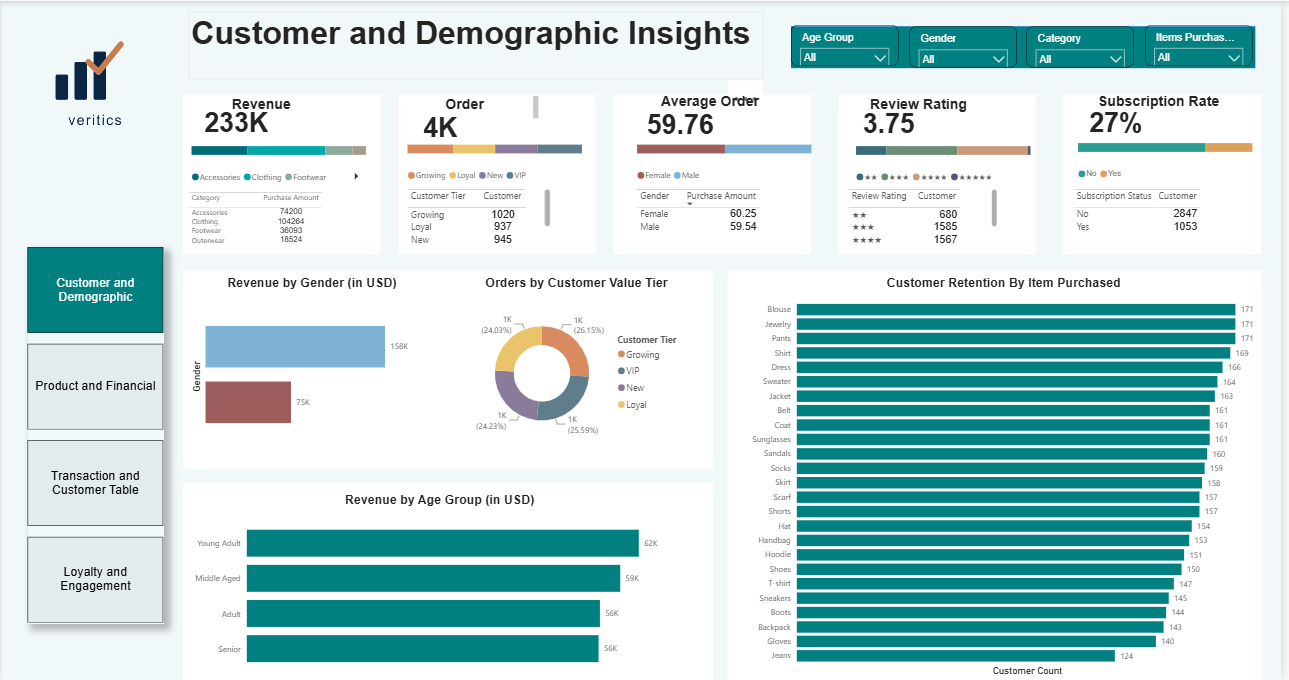

Layout of this report page (visuals, bound fields, positions):
{"tool":"powerbi","page":{"name":"Customer and Demographic","canvas":[1920,1020],"ordinal":0},"visuals":[{"type":"cardVisual","fields":{"Data":["DAX.Total Revenue"]},"box":[274.8,134,168.1,95.4],"z":0},{"type":"cardVisual","fields":{"Data":["DAX.Total Orders"]},"box":[604.2,136.3,163.5,106.8],"z":1000},{"type":"cardVisual","fields":{"Data":["DAX.Avg Order Value"]},"box":[940.3,136.3,177.2,95.4],"z":2000},{"type":"cardVisual","fields":{"Data":["DAX.Avg Review Rating"]},"box":[1265.1,138.5,136.3,90.9],"z":3000},{"type":"cardVisual","fields":{"Data":["DAX.Subscription Rate %"]},"box":[1603.5,134,143.1,95.4],"z":4000},{"type":"clusteredBarChart","title":"Revenue by Age Group (in USD)","fields":{"Category":["Orders.age_group"],"Y":["DAX.Total Revenue"]},"box":[279.4,738.2,756.3,281.6],"z":5000},{"type":"donutChart","title":"Orders by Customer Value Tier","fields":{"Y":["DAX.Total Orders"],"Category":["Orders.customer_value_tier"]},"box":[692.7,413.4,343,272.6],"z":6000},{"type":"clusteredBarChart","title":"Revenue by Gender (in USD)","fields":{"Category":["Orders.gender"],"Y":["DAX.Total Revenue"]},"box":[279.4,413.4,372.5,272.6],"z":7000},{"type":"clusteredBarChart","title":"Customer Retention By Item Purchased","fields":{"Category":["Orders.item_purchased"],"Y":["DAX.Customer Retention by Item"]},"box":[1117.5,413.4,774.5,606.4],"z":8000},{"type":"textbox","box":[279.4,15.9,865.4,102.2],"z":9000},{"type":"textbox","box":[274.8,138.5,229.4,52.2],"z":10000},{"type":"hundredPercentStackedBarChart","fields":{"Y":["Sum(Orders.purchase_amount)"],"Series":["Orders.category"]},"box":[279.4,186.2,272.6,95.4],"z":11000},{"type":"pivotTable","fields":{"Rows":["Orders.category"],"Values":["Sum(Orders.purchase_amount)"]},"box":[274.8,281.6,229.4,90.9],"z":12000},{"type":"hundredPercentStackedBarChart","fields":{"Series":["Orders.customer_value_tier"],"Y":["CountNonNull(Orders.customer_id)"]},"box":[604.2,184,272.6,95.4],"z":13000},{"type":"pivotTable","fields":{"Rows":["Orders.customer_value_tier"],"Values":["CountNonNull(Orders.customer_id)"]},"box":[604.2,277.1,224.9,90.9],"z":14000},{"type":"textbox","box":[586,138.5,224.9,47.7],"z":15000},{"type":"hundredPercentStackedBarChart","fields":{"Y":["Avg(Orders.purchase_amount)"],"Series":["Orders.gender"]},"box":[949.4,184,272.6,95.4],"z":16000},{"type":"pivotTable","fields":{"Rows":["Orders.gender"],"Values":["Avg(Orders.purchase_amount)"]},"box":[949.4,277.1,211.2,90.9],"z":17000},{"type":"hundredPercentStackedBarChart","fields":{"Series":["Orders.review_rating_stars"],"Y":["CountNonNull(Orders.customer_id)"]},"box":[1278.7,186.2,272.6,95.4],"z":18000},{"type":"pivotTable","fields":{"Rows":["Orders.review_rating_stars"],"Values":["CountNonNull(Orders.customer_id)"]},"box":[1267.4,277.1,233.9,90.9],"z":19000},{"type":"hundredPercentStackedBarChart","fields":{"Y":["CountNonNull(Orders.customer_id)"],"Series":["Orders.subscription_status"]},"box":[1610.4,181.7,272.6,95.4],"z":20000},{"type":"pivotTable","fields":{"Rows":["Orders.subscription_status"],"Values":["CountNonNull(Orders.customer_id)"]},"box":[1603.5,277.1,224.9,90.9],"z":21000},{"type":"textbox","box":[906.3,134,315.7,52.2],"z":22000},{"type":"textbox","box":[1265.1,138.5,231.7,45.4],"z":23000},{"type":"textbox","box":[1542.2,134,327.1,47.7],"z":24000},{"type":"pageNavigator","box":[38.6,369.3,205,566.2],"z":25000},{"type":"image","box":[22.7,15.9,236.2,202.1],"z":30000},{"type":"shape","box":[1185,37.5,697.5,62.5],"z":31000},{"type":"slicer","fields":{"Values":["Orders.age_group"]},"box":[1185.6,36.3,161,61.3],"z":31500},{"type":"slicer","fields":{"Values":["Orders.gender"]},"box":[1362.7,38.6,161.3,61.3],"z":32000},{"type":"slicer","fields":{"Values":["Orders.category"]},"box":[1540,38.6,161,61.3],"z":32500},{"type":"slicer","fields":{"Values":["Orders.item_purchased"]},"box":[1717.1,36.3,161,61.3],"z":33000}]}

Visuals, with their boxes in screenshot pixels (x1, y1, x2, y2), scaled from the page's 1920x1020 canvas onto the 1289x680 screenshot:
cardVisual - DAX.Total Revenue: [184,89,297,153]
cardVisual - DAX.Total Orders: [406,91,515,162]
cardVisual - DAX.Avg Order Value: [631,91,750,154]
cardVisual - DAX.Avg Review Rating: [849,92,941,153]
cardVisual - DAX.Subscription Rate %: [1077,89,1173,153]
"Revenue by Age Group (in USD)" clusteredBarChart: [188,492,695,679]
"Orders by Customer Value Tier" donutChart: [465,276,695,457]
"Revenue by Gender (in USD)" clusteredBarChart: [188,276,438,457]
"Customer Retention By Item Purchased" clusteredBarChart: [750,276,1270,679]
textbox: [188,11,769,79]
textbox: [184,92,338,127]
hundredPercentStackedBarChart - Sum(Orders.purchase_amount) x Orders.category: [188,124,371,188]
pivotTable - Orders.category x Sum(Orders.purchase_amount): [184,188,338,248]
hundredPercentStackedBarChart - Orders.customer_value_tier x CountNonNull(Orders.customer_id): [406,123,589,186]
pivotTable - Orders.customer_value_tier x CountNonNull(Orders.customer_id): [406,185,557,245]
textbox: [393,92,544,124]
hundredPercentStackedBarChart - Avg(Orders.purchase_amount) x Orders.gender: [637,123,820,186]
pivotTable - Orders.gender x Avg(Orders.purchase_amount): [637,185,779,245]
hundredPercentStackedBarChart - Orders.review_rating_stars x CountNonNull(Orders.customer_id): [858,124,1041,188]
pivotTable - Orders.review_rating_stars x CountNonNull(Orders.customer_id): [851,185,1008,245]
hundredPercentStackedBarChart - CountNonNull(Orders.customer_id) x Orders.subscription_status: [1081,121,1264,185]
pivotTable - Orders.subscription_status x CountNonNull(Orders.customer_id): [1077,185,1228,245]
textbox: [608,89,820,124]
textbox: [849,92,1005,123]
textbox: [1035,89,1255,121]
pageNavigator: [26,246,164,624]
image: [15,11,174,145]
shape: [796,25,1264,67]
slicer - Orders.age_group: [796,24,904,65]
slicer - Orders.gender: [915,26,1023,67]
slicer - Orders.category: [1034,26,1142,67]
slicer - Orders.item_purchased: [1153,24,1261,65]
